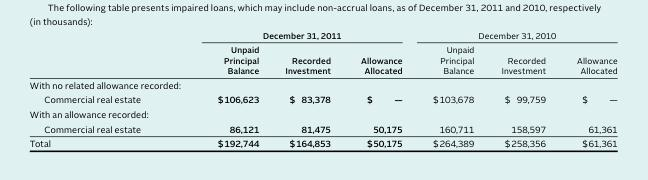table: (28, 28, 616, 149)
table column: (28, 28, 178, 149), (178, 28, 271, 149), (271, 28, 345, 149), (487, 28, 560, 149), (345, 28, 416, 149), (416, 28, 487, 149), (560, 28, 616, 149)
table column header: (28, 28, 616, 77)
table projected row header: (28, 77, 616, 92), (28, 106, 616, 121)
table row: (28, 41, 616, 77), (28, 77, 616, 92), (28, 106, 616, 121), (28, 92, 616, 106), (28, 121, 616, 135), (28, 135, 616, 149), (28, 28, 616, 41)
table spanning cell: (178, 28, 416, 41), (416, 28, 616, 41)
